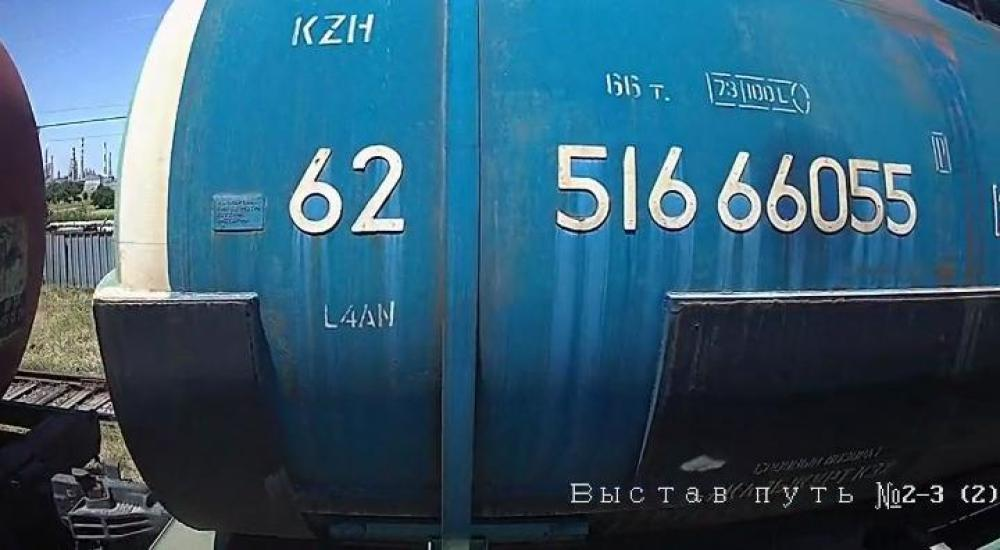Wagon-number: (548, 136, 922, 246)
